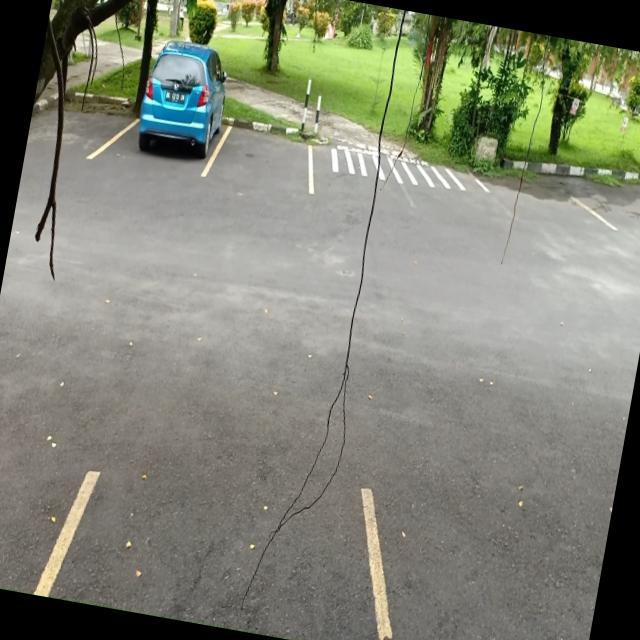empty: (43, 465, 399, 640), (206, 99, 324, 200)
occupied: (118, 76, 228, 181)
